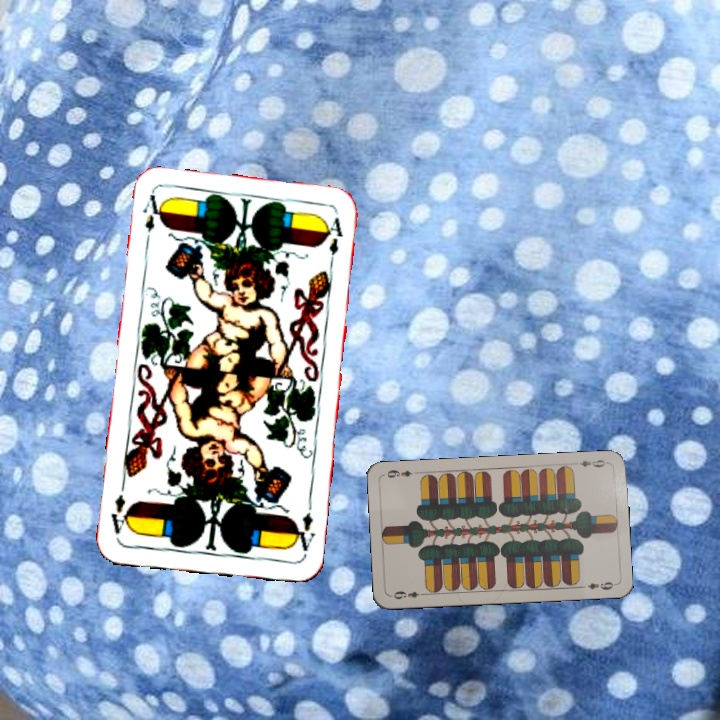E9: (570, 455, 610, 470), (390, 587, 428, 602)
EA: (139, 190, 165, 250), (289, 508, 318, 554)
